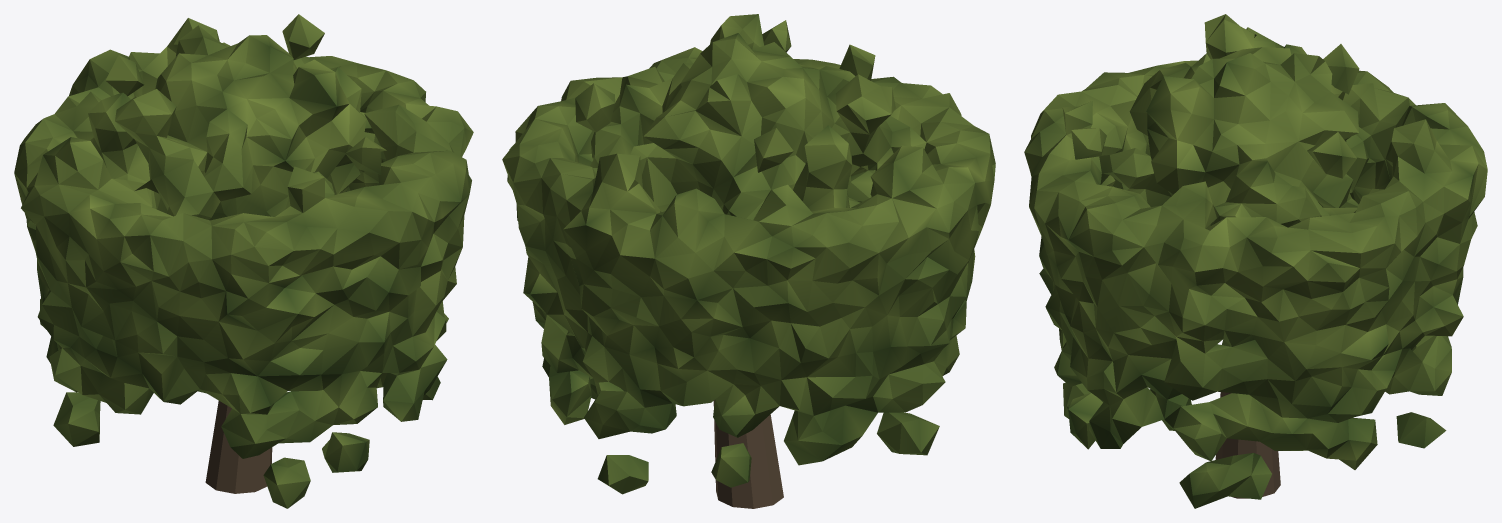
Rendered from tree_willow.glb.
3 views of the same model, side by side, from view 1: azimuth 30°, elevation 25°; view 2: azimuth 150°, elevation 25°; view 3: azimuth 270°, elevation 25° (orthographic). The views are drawn at different scales.
Parts seen in each view (by area): view 1: tree_willow; view 2: tree_willow; view 3: tree_willow.
Boxes of the visible parts, <box> form: tree_willow: <box>14,14,473,508</box>; tree_willow: <box>502,14,995,508</box>; tree_willow: <box>1024,14,1487,508</box>.
Bounding box in the file's own units: 5.37 × 5.45 × 5.22.
